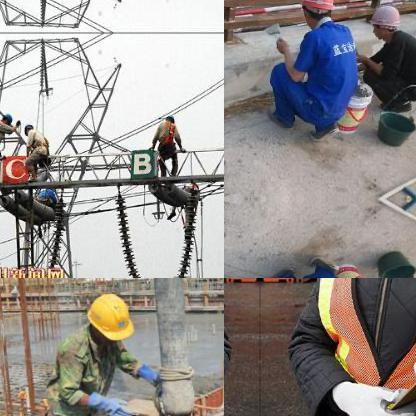Helmet: (80, 284, 136, 354), (366, 1, 402, 40), (298, 0, 336, 25), (21, 119, 35, 136), (163, 110, 177, 124), (0, 109, 12, 125)
